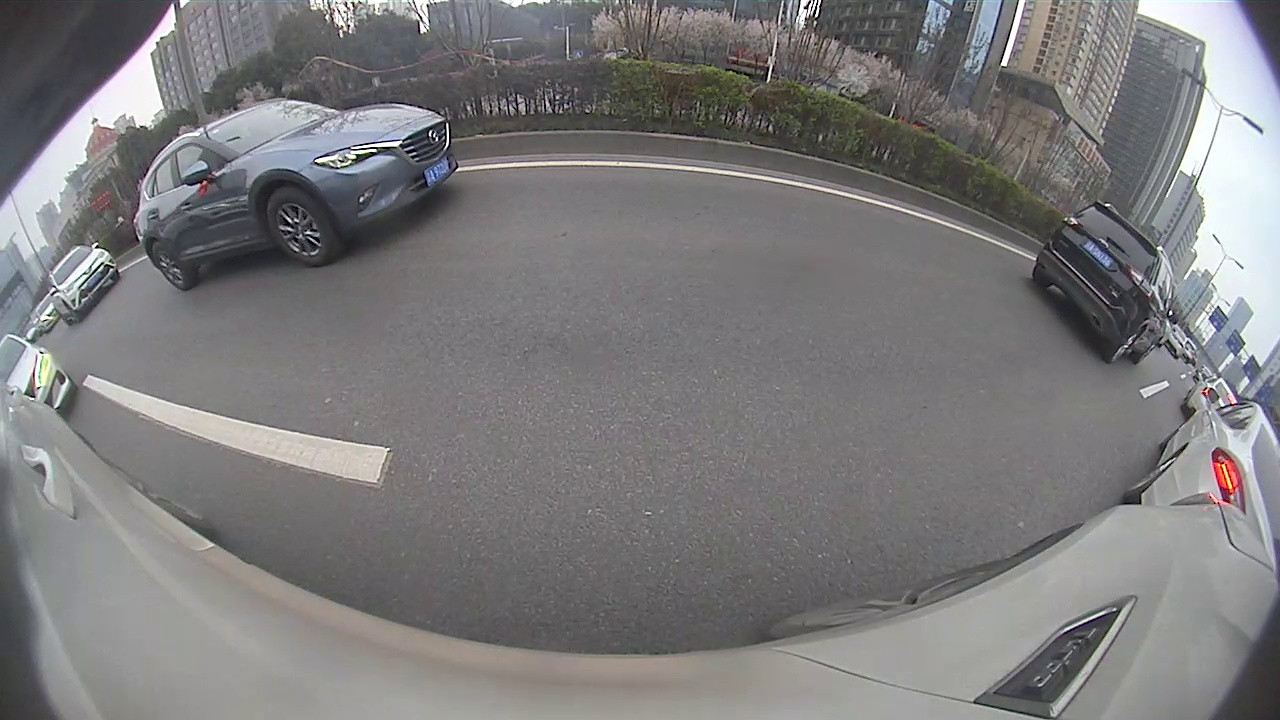car: (134, 98, 461, 291), (1121, 388, 1279, 570), (1031, 200, 1180, 365), (45, 242, 121, 326)
front: (263, 190, 334, 265)
rear: (148, 240, 189, 289)
